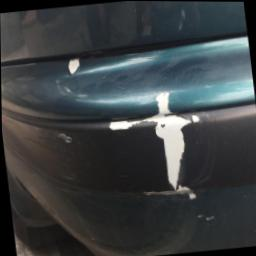Bumper: (23, 37, 236, 231)
